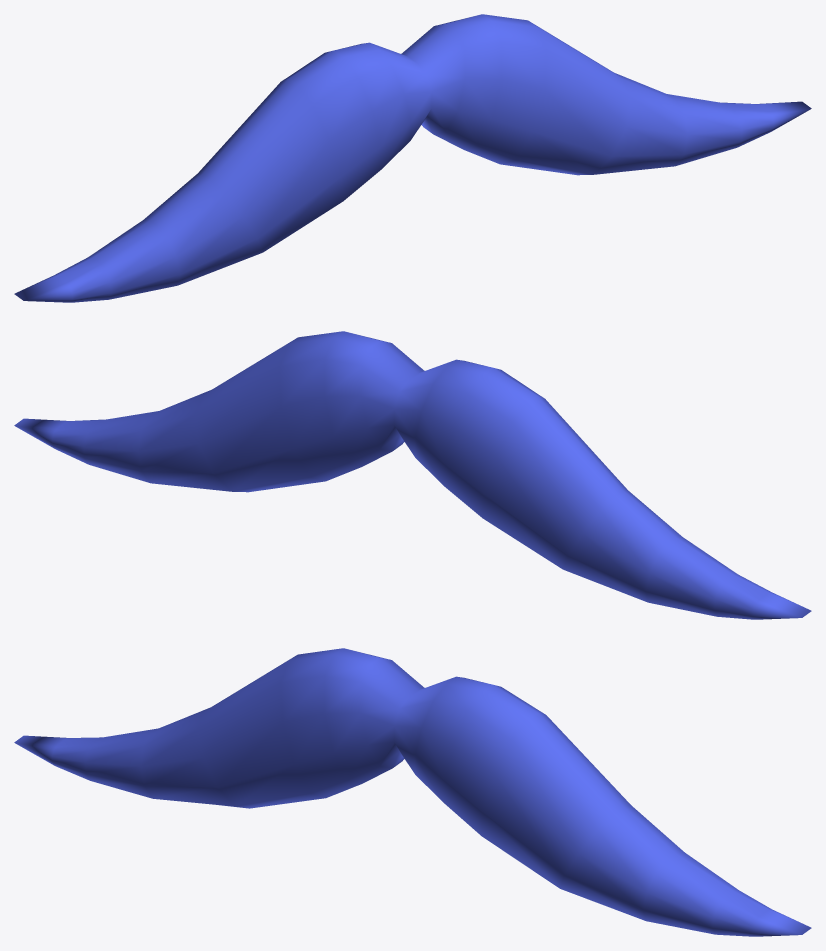
The model's file is Beard_12_03.fbx.
3 renders of one model, top to bottom at view 1: azimuth 30°, elevation 25°; view 2: azimuth 150°, elevation 25°; view 3: azimuth 330°, elevation 25°, orthographic.
Parts seen in each view (by area): view 1: Beard_12_03; view 2: Beard_12_03; view 3: Beard_12_03.
Part boxes in pixels (left/top/right/bottom): Beard_12_03: left=14, top=14, right=811, bottom=302; Beard_12_03: left=14, top=331, right=811, bottom=619; Beard_12_03: left=14, top=648, right=811, bottom=936.
Bounding box in the file's own units: 19.83 × 4.47 × 2.17.
